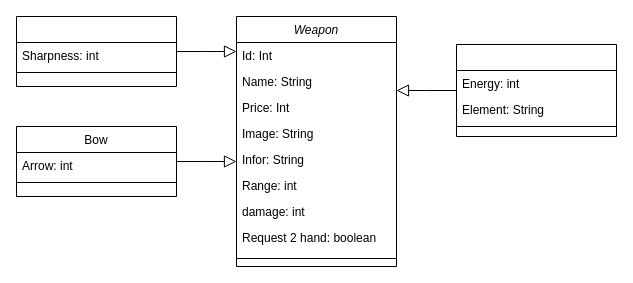
The diagram is 633 pixels wide and 283 high, and some of its shapes have lost their labels. Each missing label, with the box of its shape:
Sword: (16, 16, 176, 86)
Wand: (456, 44, 616, 136)
